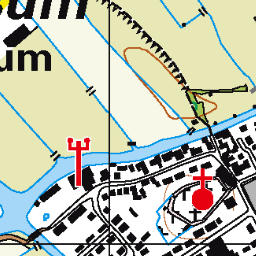church: (189, 167, 218, 214)
